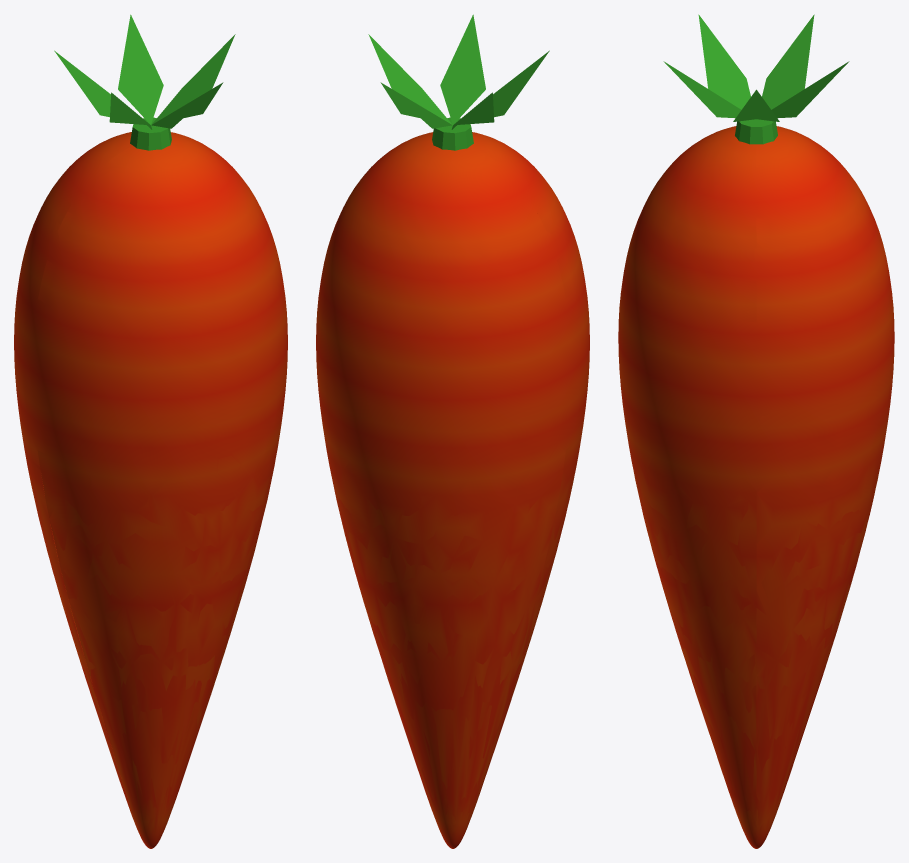
File: carotte.glb
3 views of the same model, side by side, from view 1: azimuth 30°, elevation 25°; view 2: azimuth 150°, elevation 25°; view 3: azimuth 270°, elevation 25° (orthographic).
Visible parts, largest first — view 1: entier_peau, moitie_B_peau, entier_extra0, moitie_A_peau; view 2: entier_peau, moitie_A_peau, entier_extra0, moitie_B_peau; view 3: entier_peau, moitie_B_peau, moitie_A_peau, entier_extra0.
Boxes of the visible parts, x1,y1,x2,y2 form: entier_peau: (14, 135, 287, 848); moitie_B_peau: (37, 137, 287, 848); entier_extra0: (54, 14, 235, 150); moitie_A_peau: (18, 132, 193, 842); entier_peau: (316, 132, 589, 848); moitie_A_peau: (317, 137, 565, 848); entier_extra0: (368, 14, 549, 150); moitie_B_peau: (416, 132, 589, 840); entier_peau: (618, 127, 894, 848); moitie_B_peau: (618, 126, 756, 848); moitie_A_peau: (756, 126, 894, 848); entier_extra0: (663, 14, 849, 144).
Size of the model in its own units: 0.7001 by 2.24 by 0.7002.
